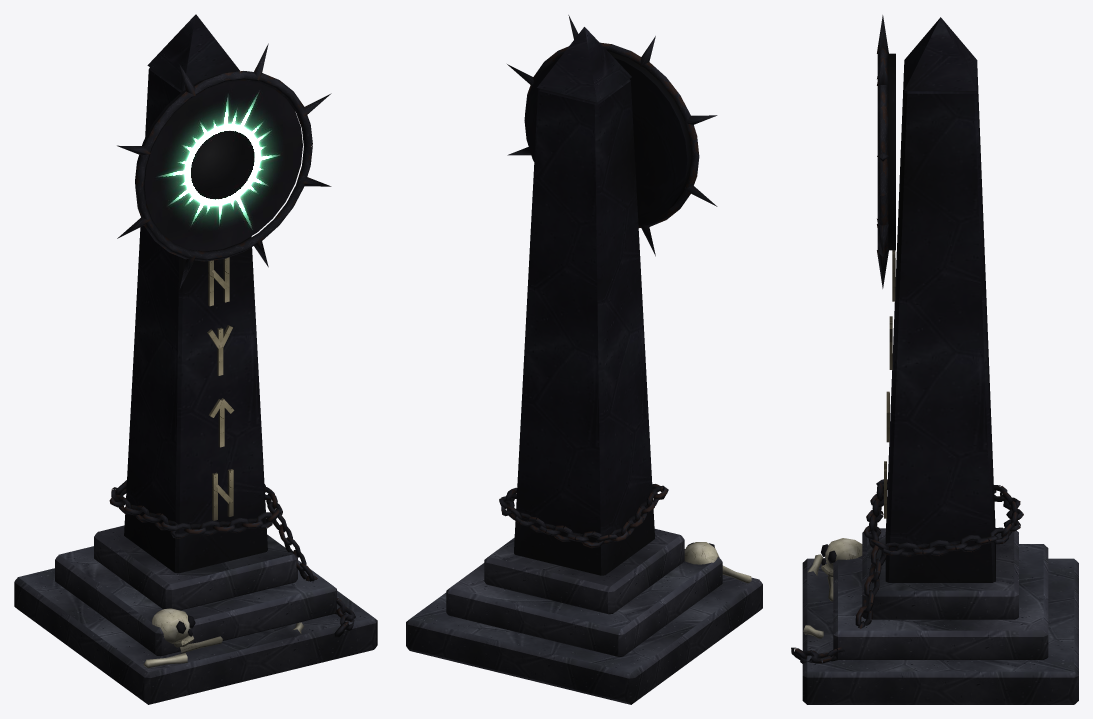
The model's file is helheim_blacksun_obelisk.glb.
3 views of the same model, side by side, from view 1: azimuth 30°, elevation 25°; view 2: azimuth 150°, elevation 25°; view 3: azimuth 270°, elevation 25° (orthographic). The views are drawn at different scales.
Parts seen in each view (by area): view 1: helheim_blacksun_obelisk; view 2: helheim_blacksun_obelisk; view 3: helheim_blacksun_obelisk.
Part boxes in pixels (x1,y1,x2,y2): helheim_blacksun_obelisk: (14, 14, 377, 704); helheim_blacksun_obelisk: (406, 15, 762, 704); helheim_blacksun_obelisk: (791, 15, 1078, 704).
Size of the model in its own units: 1.8 by 4.54 by 1.88.
Materials: 6 (5 with a texture image).
